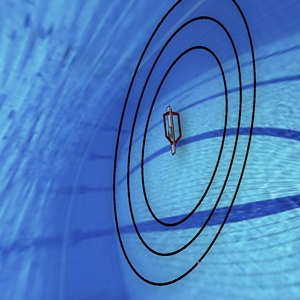circle: (96, 1, 266, 287)
submarine: (150, 101, 189, 161)
